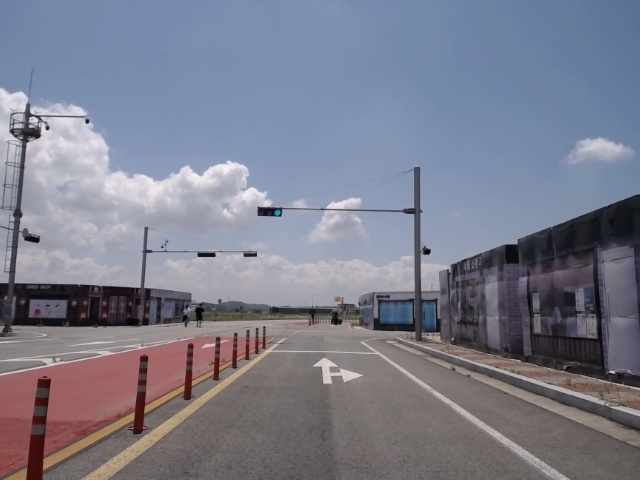green_3: (258, 208, 281, 216)
